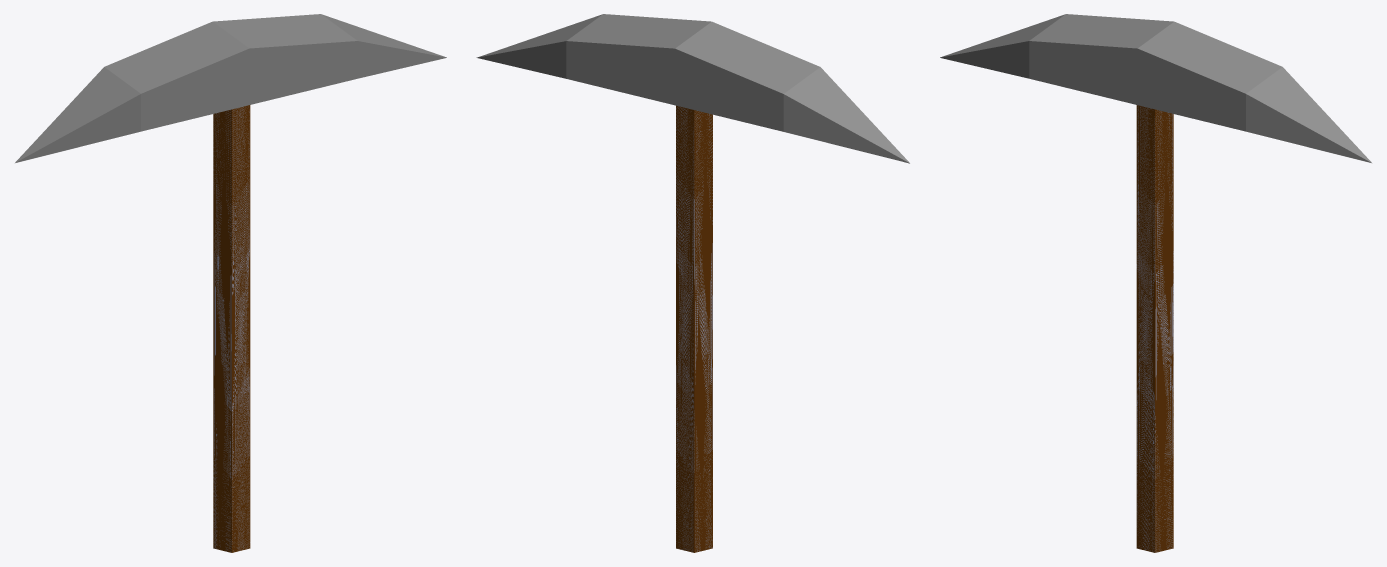
Rendered from pickaxe.dae.
The picture shows the model from 3 angles, left to right: view 1: azimuth 30°, elevation 25°; view 2: azimuth 150°, elevation 25°; view 3: azimuth 330°, elevation 25°; orthographic projection.
Visible parts, largest first — view 1: Component_64, Component_65; view 2: Component_64, Component_65; view 3: Component_64, Component_65.
Part boxes in pixels (x1=…): Component_64: x1=15, y1=14, x2=446, y2=162; Component_65: x1=213, y1=105, x2=250, y2=552; Component_64: x1=476, y1=14, x2=909, y2=163; Component_65: x1=676, y1=105, x2=712, y2=552; Component_64: x1=940, y1=14, x2=1371, y2=162; Component_65: x1=1136, y1=105, x2=1173, y2=552.
Size of the model in its own units: 93.95 by 13.84 by 105.
